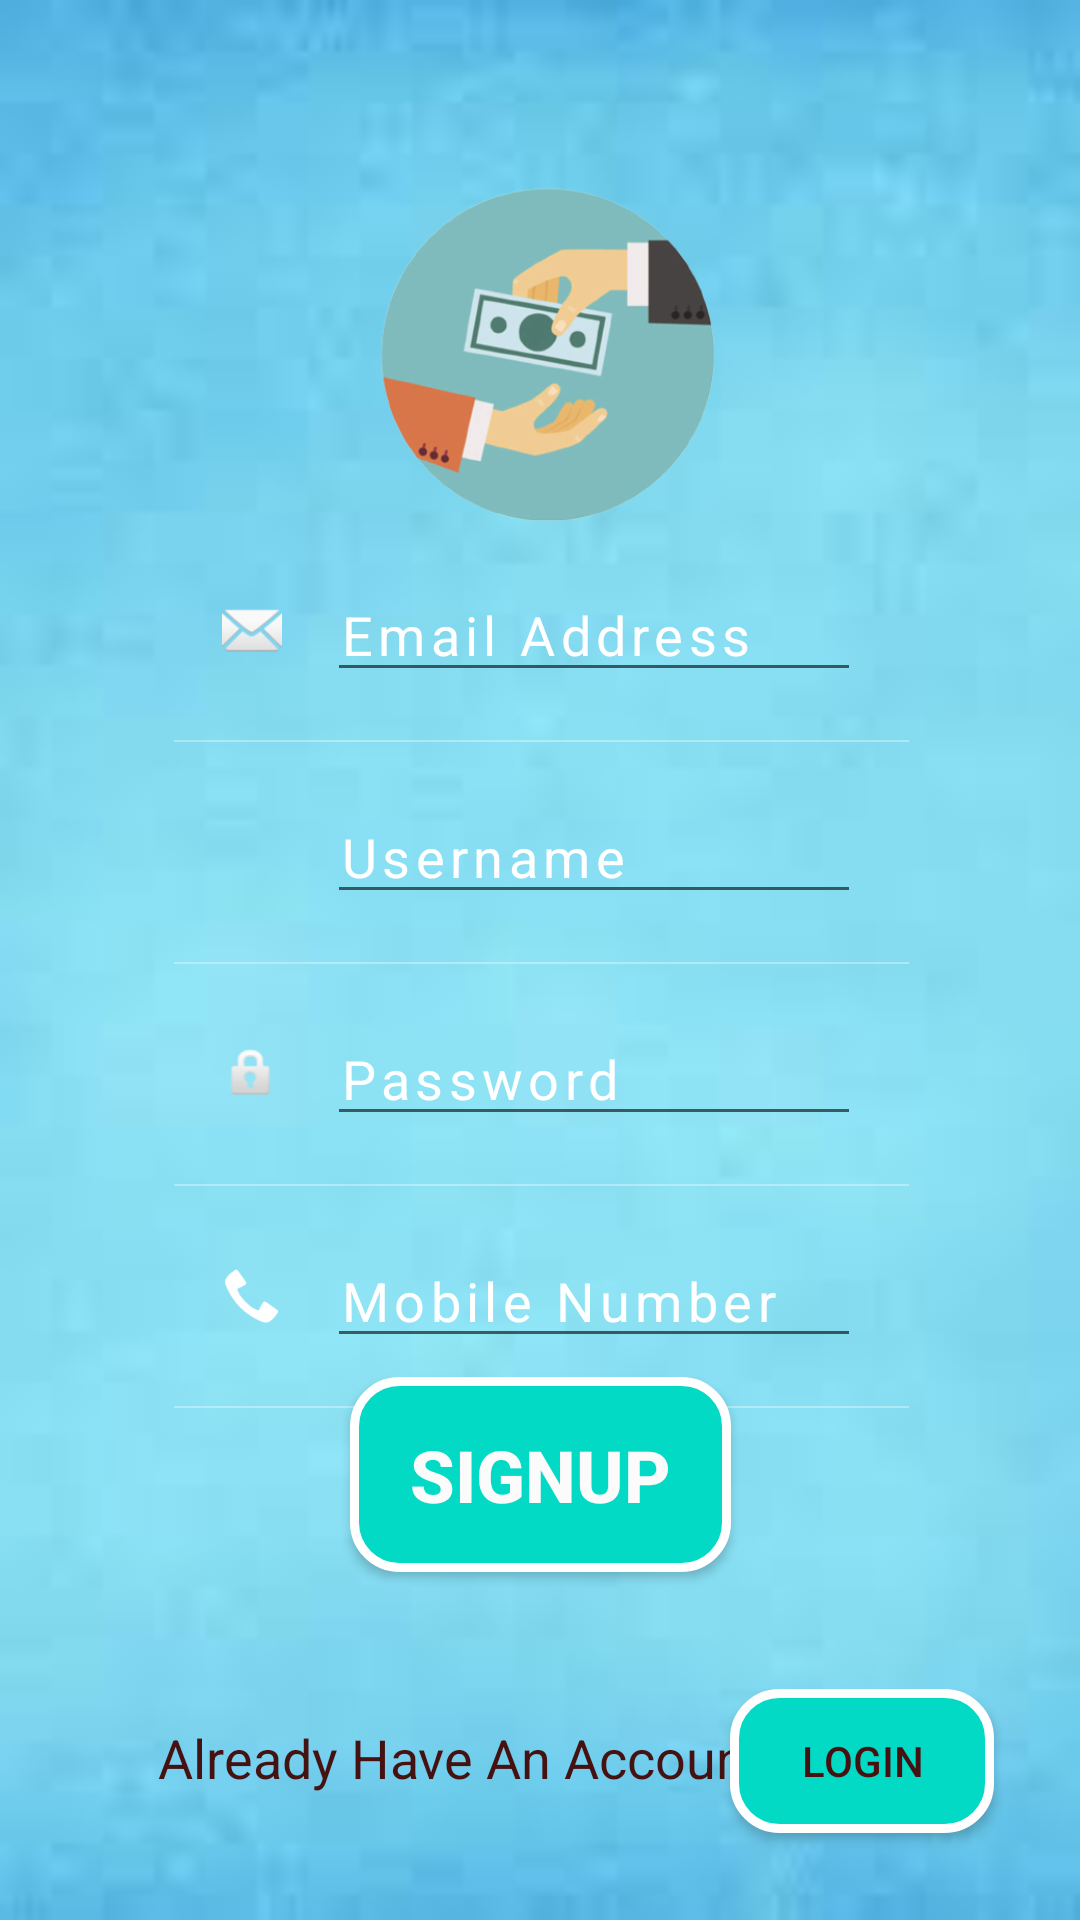

Locate icon controls on the screen. Image size 1080x1920, boxes as (x1, y1, x2, y2).
lock idle: (231, 1049, 270, 1095)
phone call: (225, 1269, 278, 1323)
